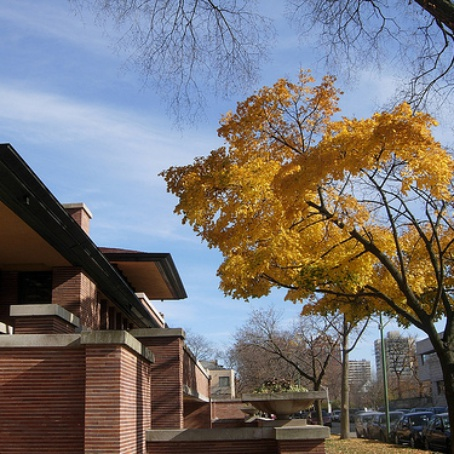building: (5, 150, 316, 454)
sky: (2, 5, 454, 272)
tree: (169, 87, 454, 418), (242, 315, 349, 414)
